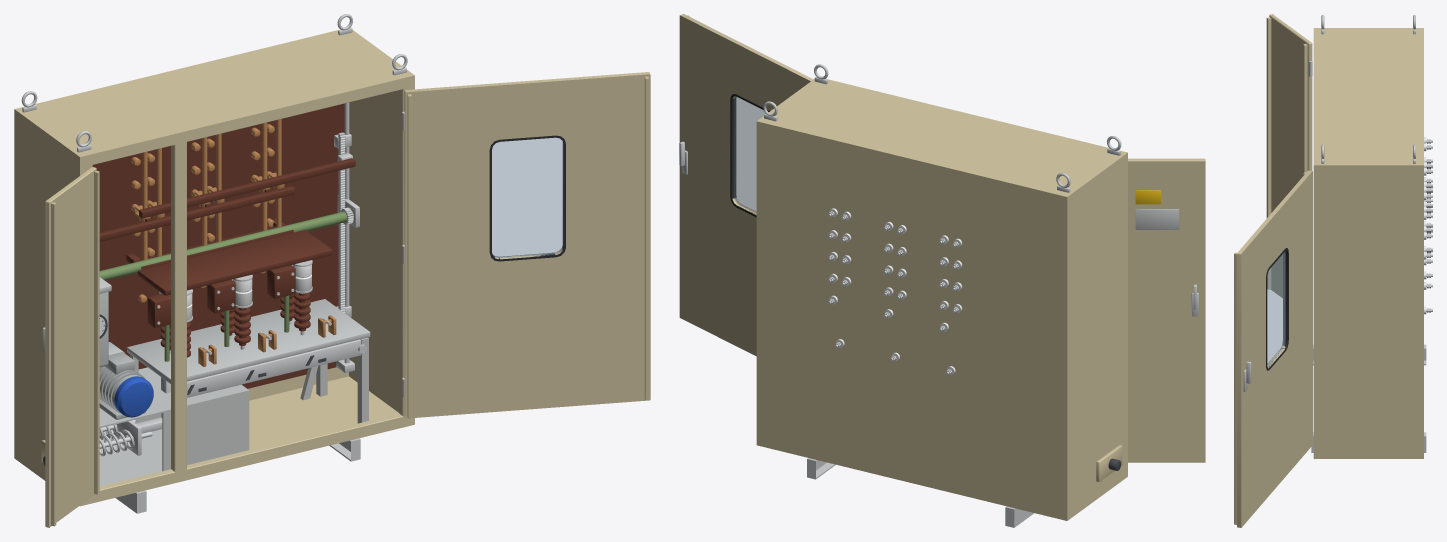
The model's file is cvt.glb.
3 views of the same model, side by side, from view 1: azimuth 30°, elevation 25°; view 2: azimuth 150°, elevation 25°; view 3: azimuth 270°, elevation 25° (orthographic). The views are drawn at different scales.
Visible parts, largest first — view 1: cvt-door, cvt-cabinet, cvt-board, cvt-shelf, accum, sel-moving, cvt-rod, cvt-cam, cvt-motor, resistor, cvt-lift, cvt-shaft (+5 smaller); view 2: cvt-cabinet, cvt-door, sel-terminal; view 3: cvt-cabinet, cvt-door, sel-terminal.
Part boxes in pixels (box(x1,y1,x2,y2)): cvt-door: box(42, 72, 650, 527); cvt-cabinet: box(14, 14, 414, 513); cvt-board: box(92, 102, 349, 388); cvt-shelf: box(127, 230, 370, 423); accum: box(99, 367, 249, 486); sel-moving: box(99, 153, 355, 241); cvt-rod: box(142, 119, 281, 260); cvt-cam: box(187, 339, 366, 397); cvt-motor: box(99, 352, 153, 419); resistor: box(147, 265, 295, 327); cvt-lift: box(160, 292, 310, 361); cvt-shaft: box(99, 195, 359, 280); cvt-cabinet: box(756, 64, 1127, 527); cvt-door: box(679, 14, 1205, 462); sel-terminal: box(828, 208, 962, 331); cvt-cabinet: box(1311, 15, 1426, 458); cvt-door: box(1234, 14, 1312, 527); sel-terminal: box(1424, 137, 1432, 279).
Size of the model in its own units: 2.45 by 1.55 by 0.8559.
